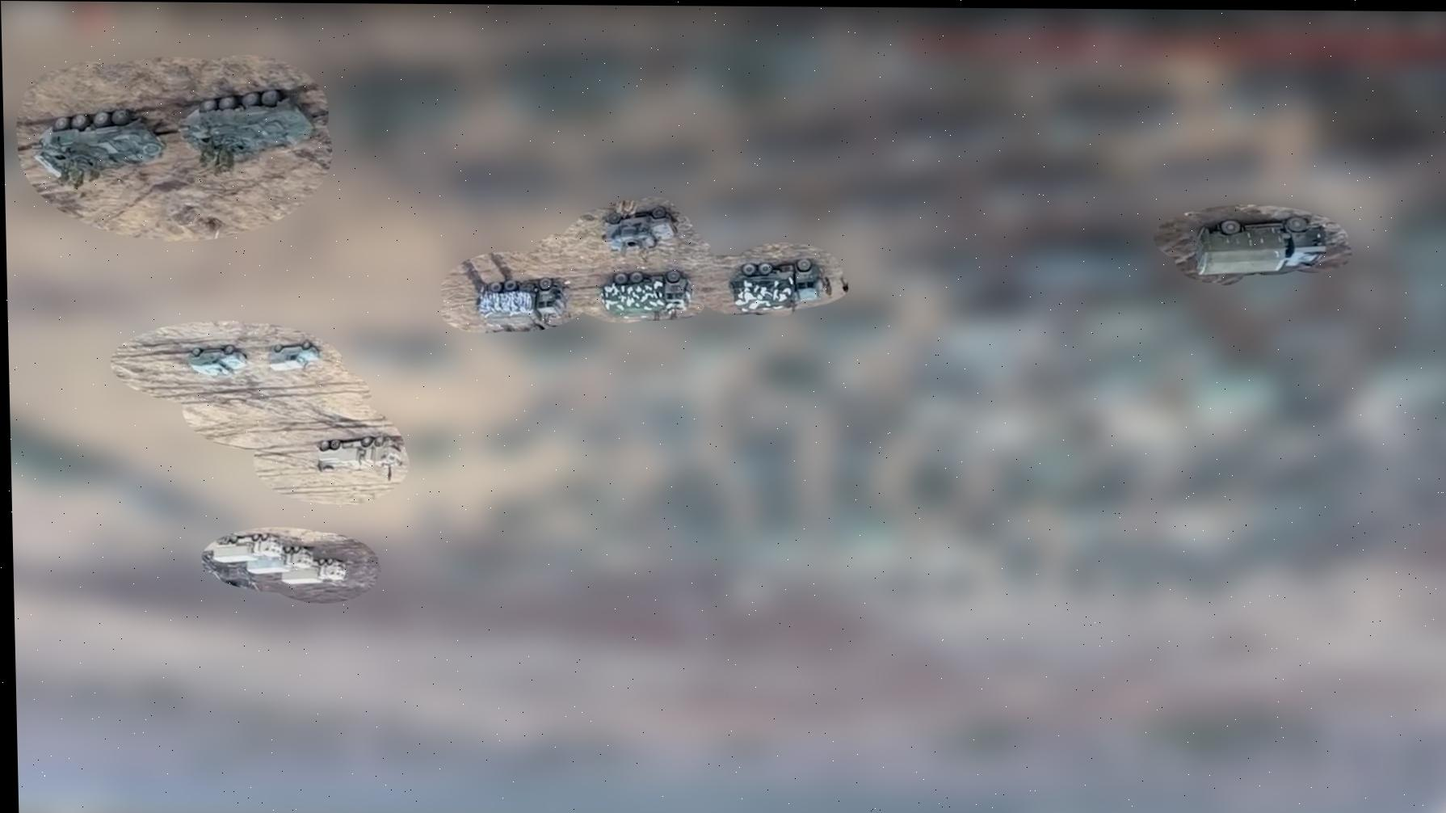armored_car: (174, 85, 316, 159), (33, 106, 166, 181), (599, 204, 680, 253), (187, 344, 248, 376), (266, 339, 322, 372)
truck: (1188, 215, 1328, 274), (727, 257, 825, 312), (598, 268, 695, 319), (472, 274, 566, 325), (315, 434, 405, 472), (210, 530, 281, 562)
